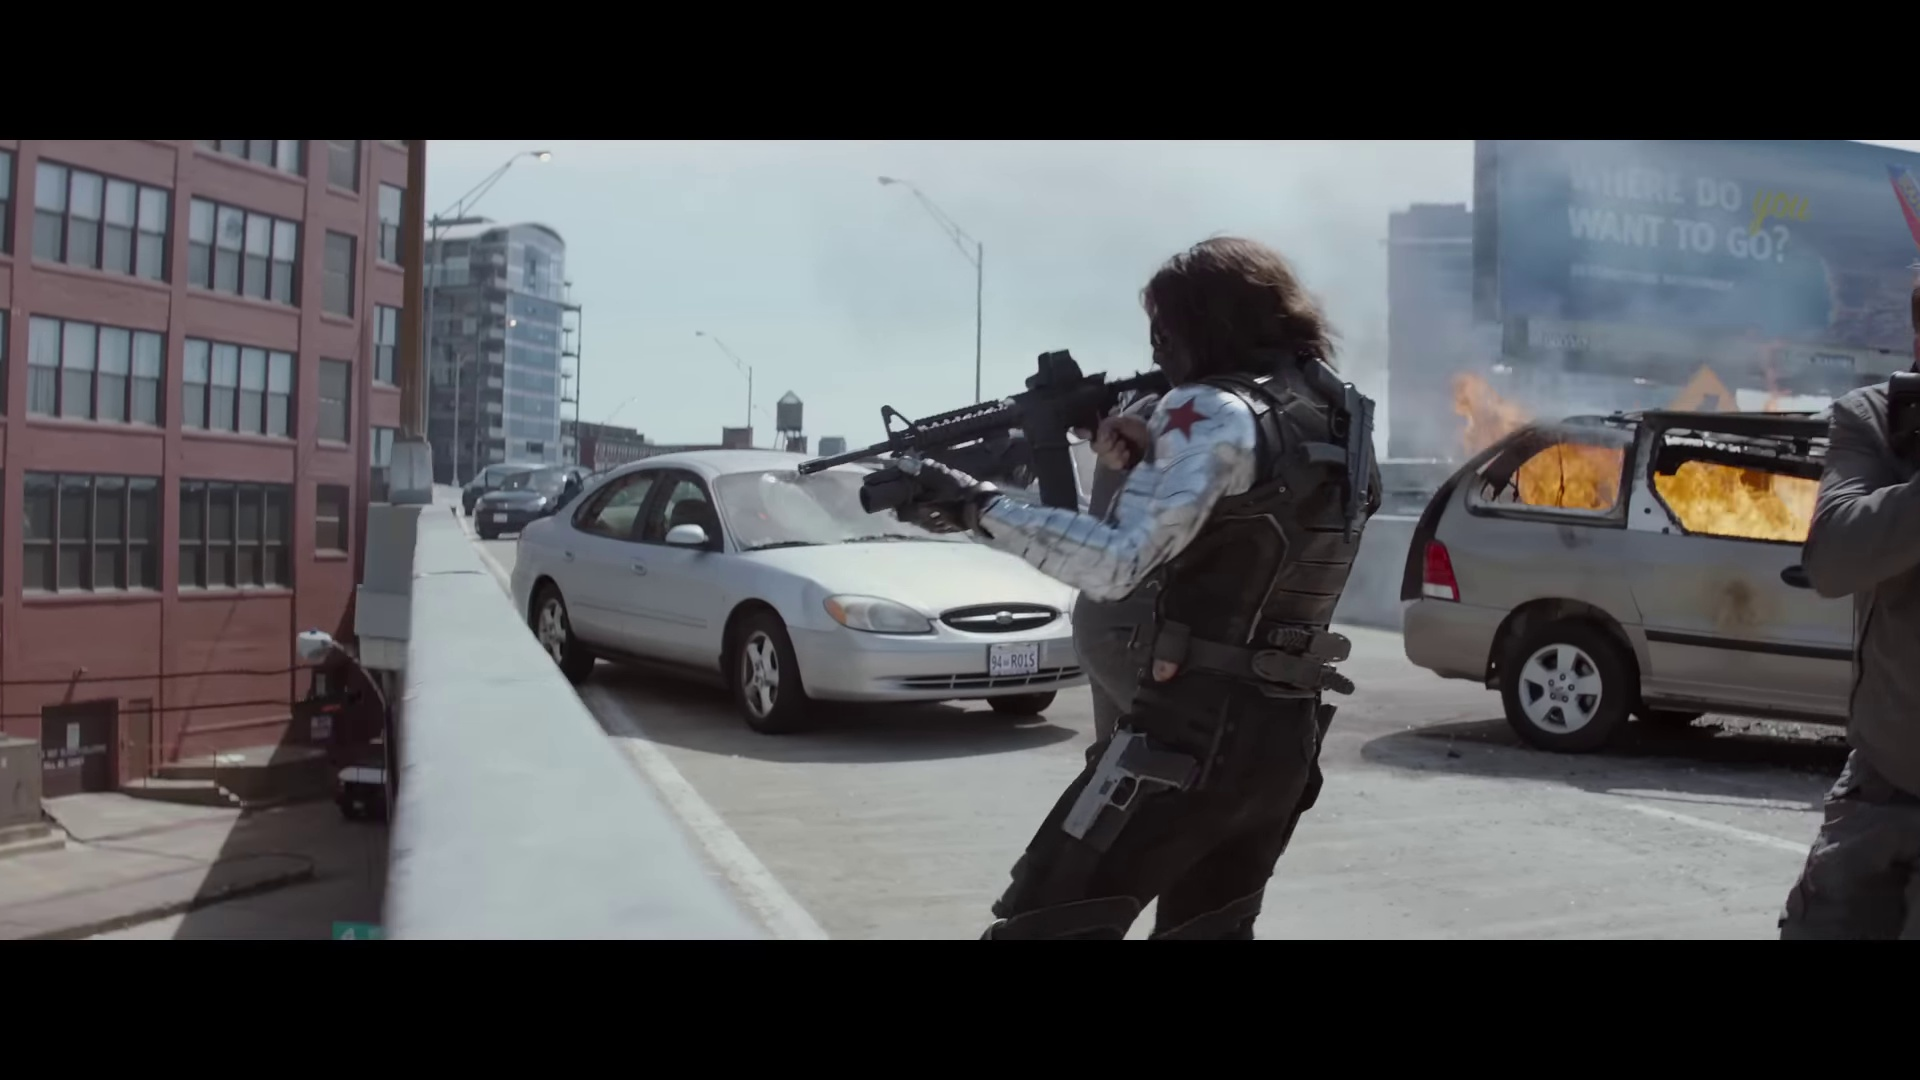gun: (794, 349, 1176, 527)
p_w_gun: (793, 229, 1386, 951)
p_wo_gun_carrying_another_object: (1768, 280, 1920, 934)
